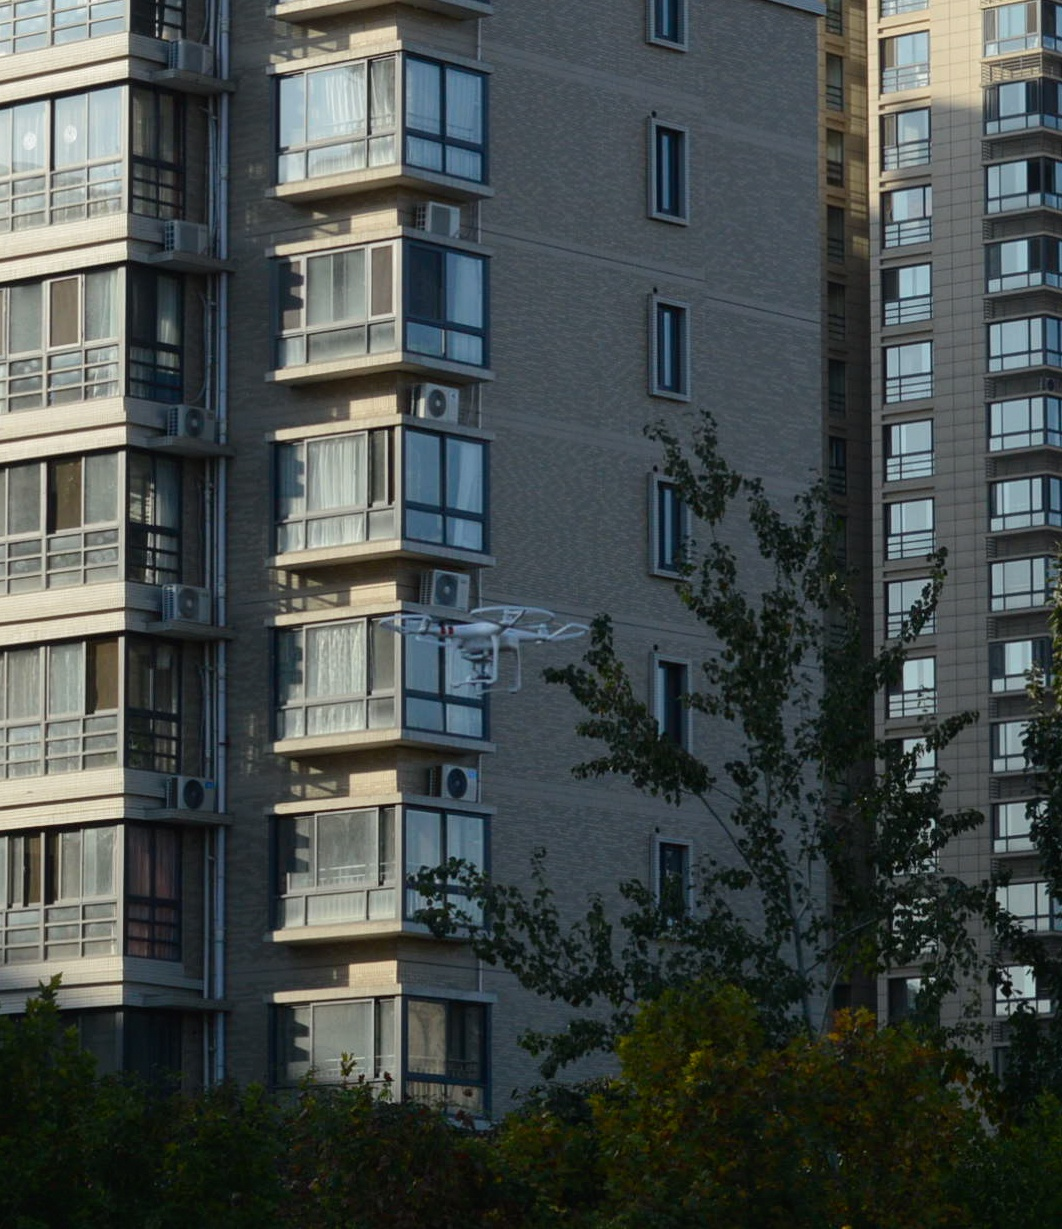DJI: (380, 602, 588, 692)
